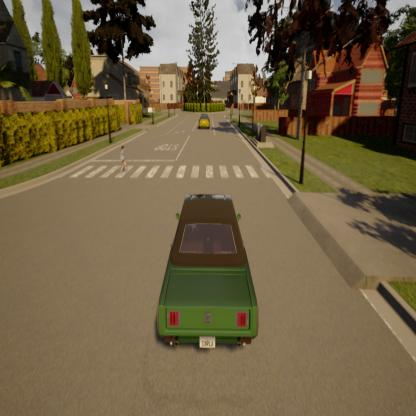Cars: (156, 187, 266, 360)
